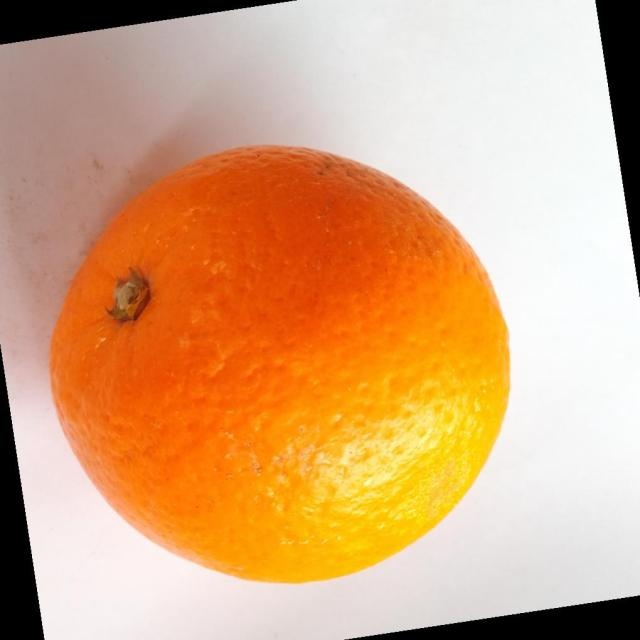agrume: (48, 142, 511, 585)
